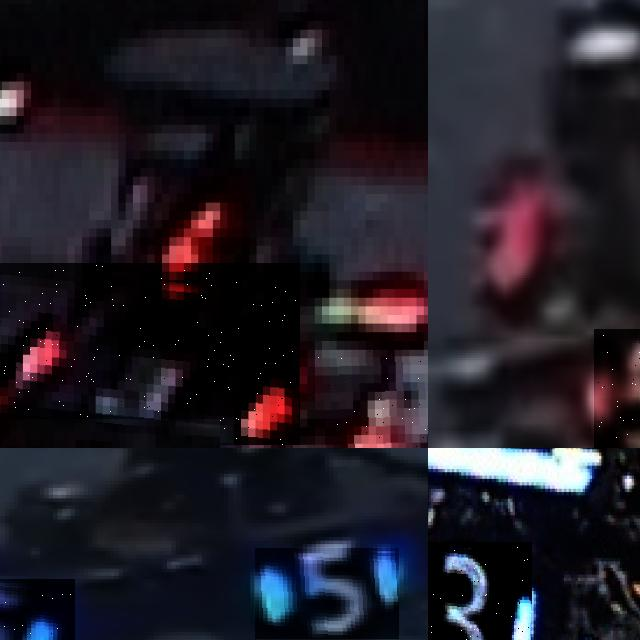B3: (428, 541, 531, 640)
B5: (255, 548, 399, 639), (0, 579, 75, 640)
R3: (0, 263, 300, 444), (314, 349, 428, 448)
R5: (594, 329, 640, 448)
